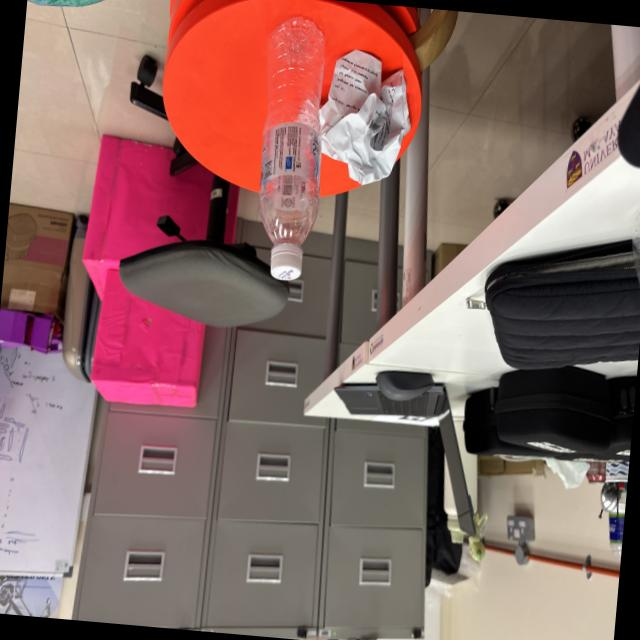crumpled_paper: (308, 36, 422, 198)
plastic_bottle: (244, 8, 341, 290)
